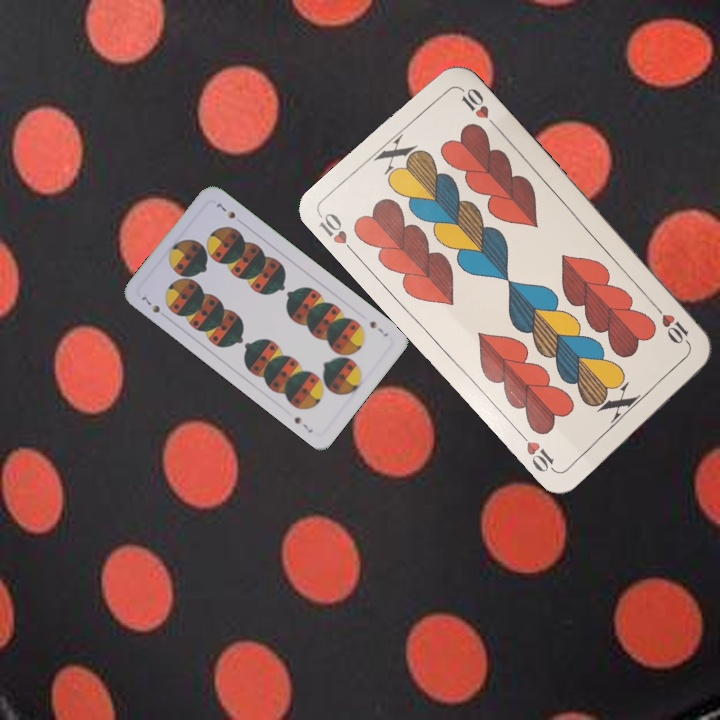H10: (315, 208, 360, 259), (650, 300, 694, 349)
S7: (137, 291, 163, 316), (366, 317, 391, 339)
